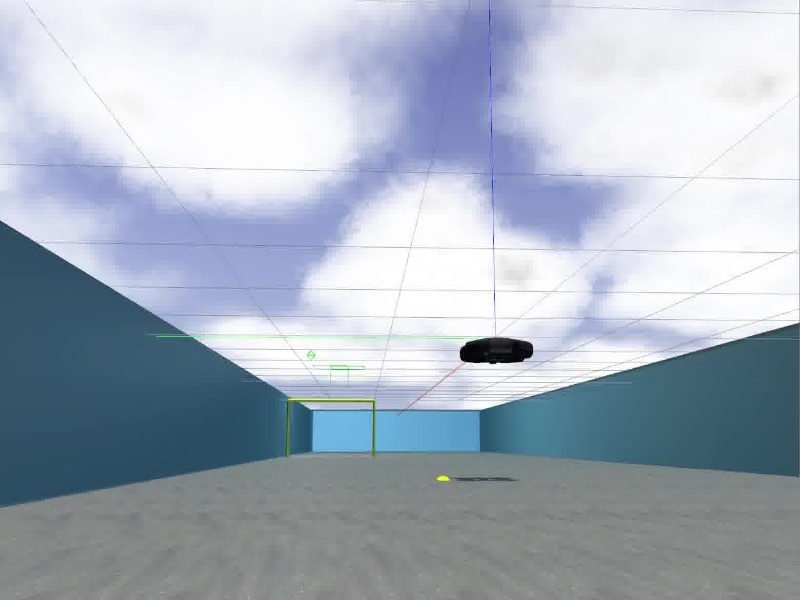gate: (283, 397, 379, 458)
